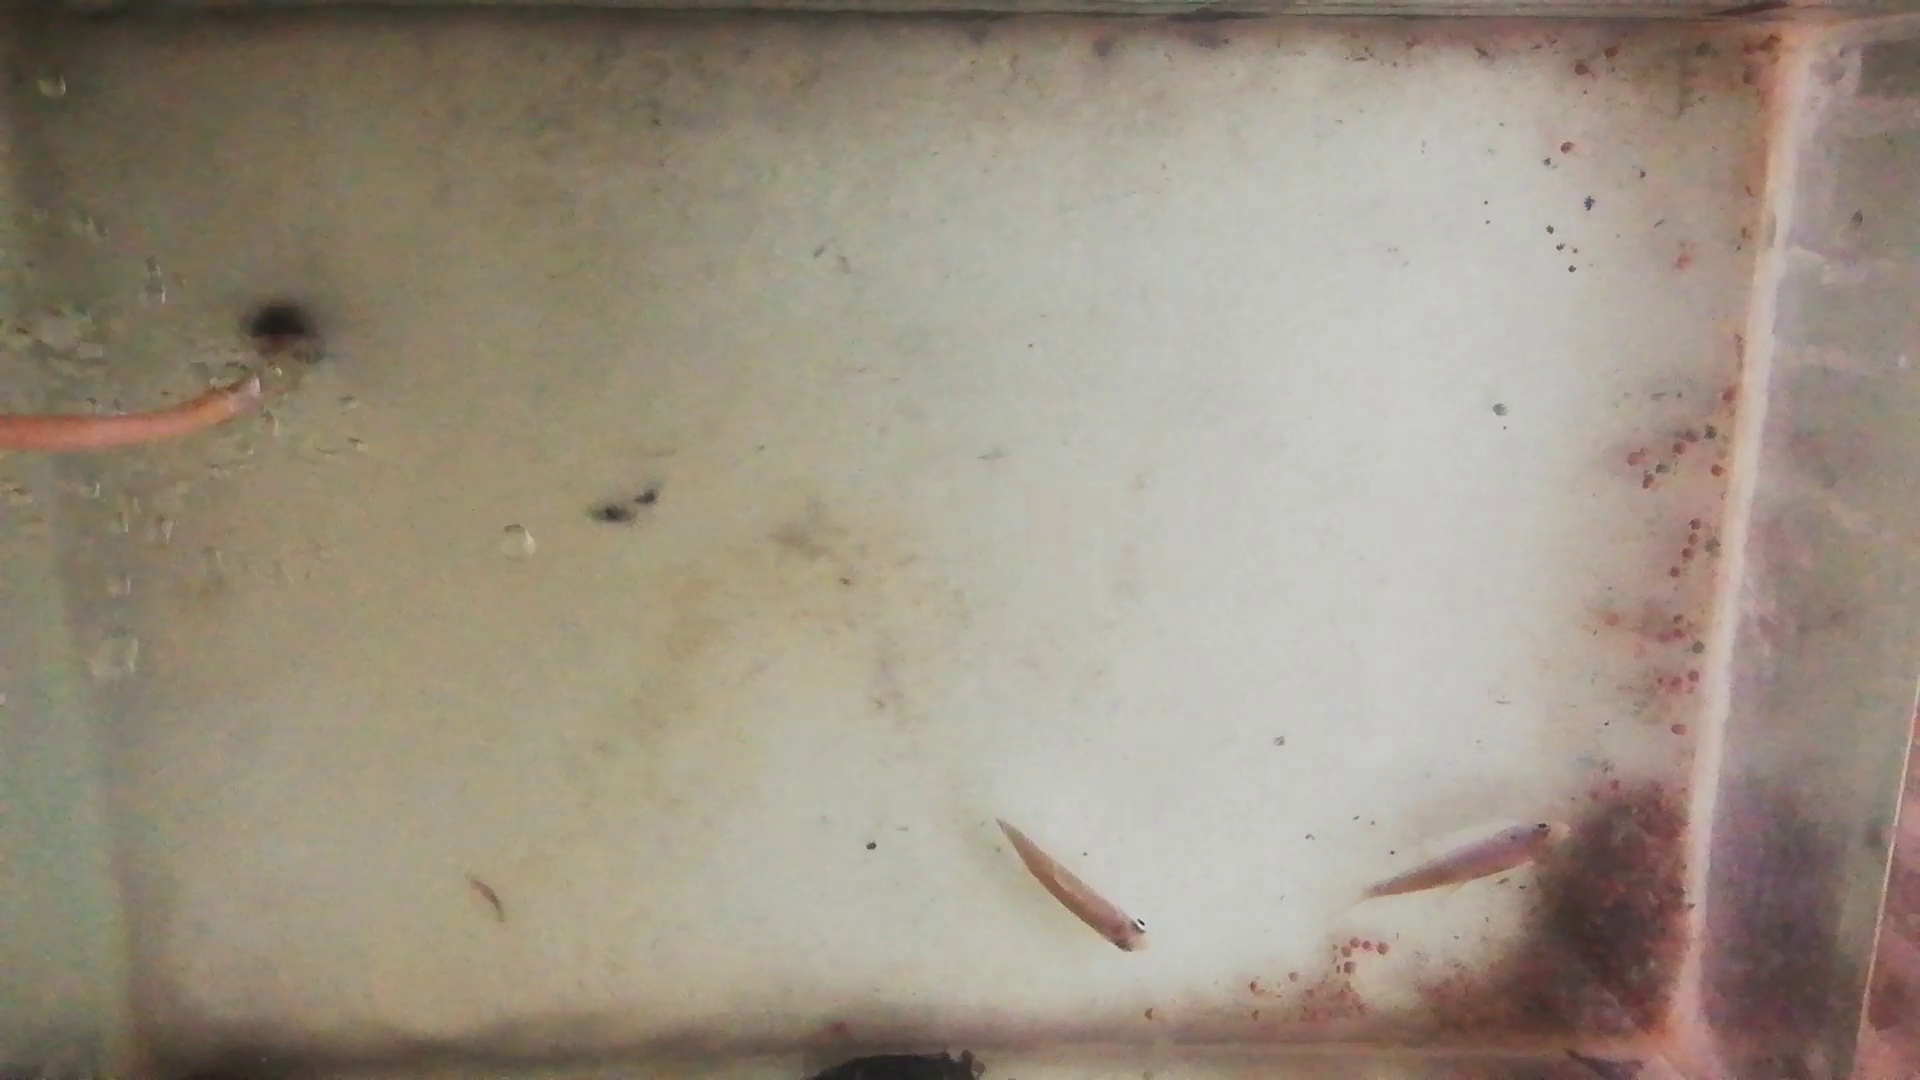fish: (997, 822, 1153, 952), (1371, 824, 1571, 898)
